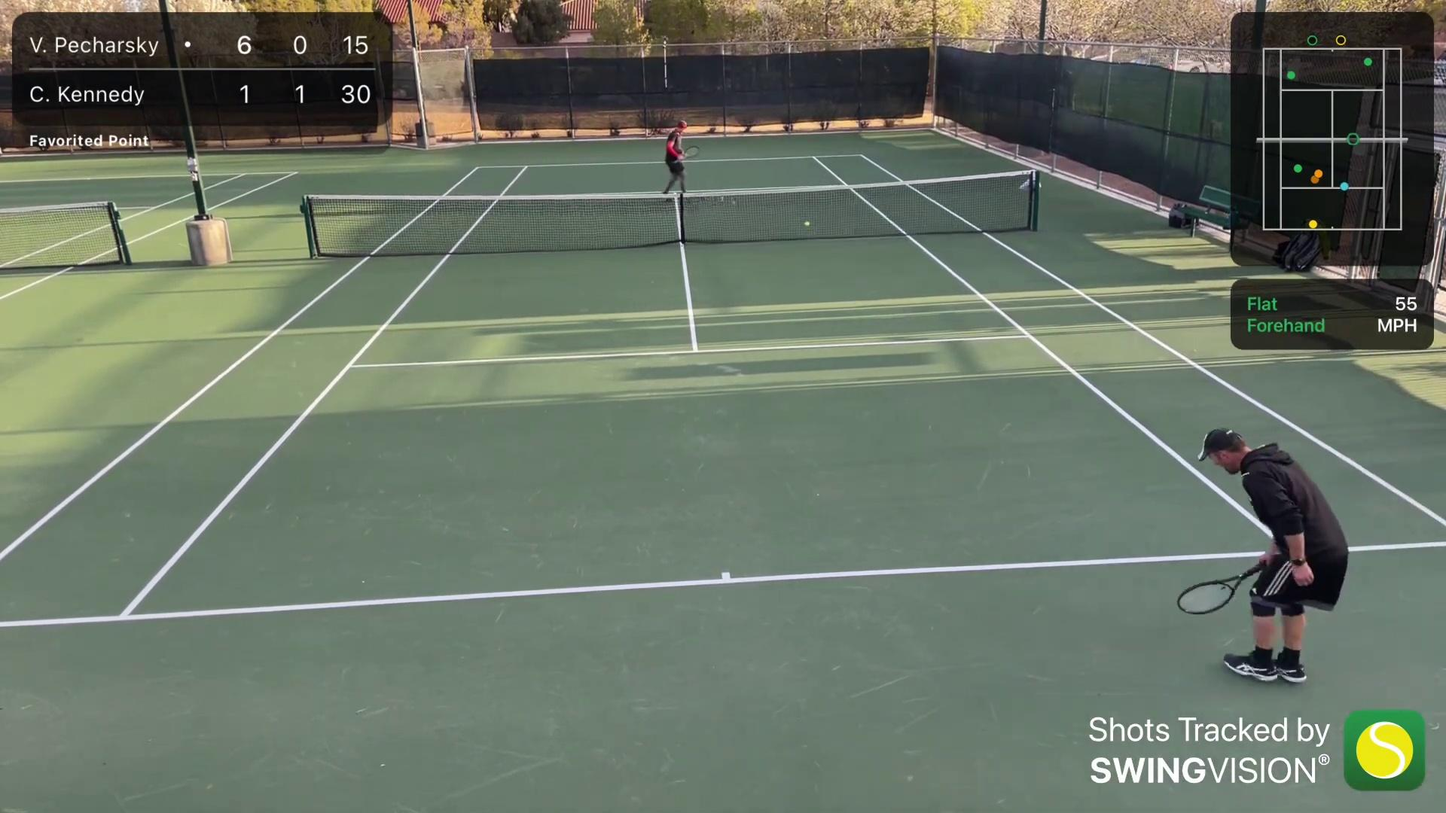ball: (804, 220, 810, 227)
